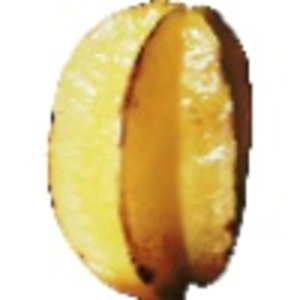carambola: (44, 1, 255, 300)
